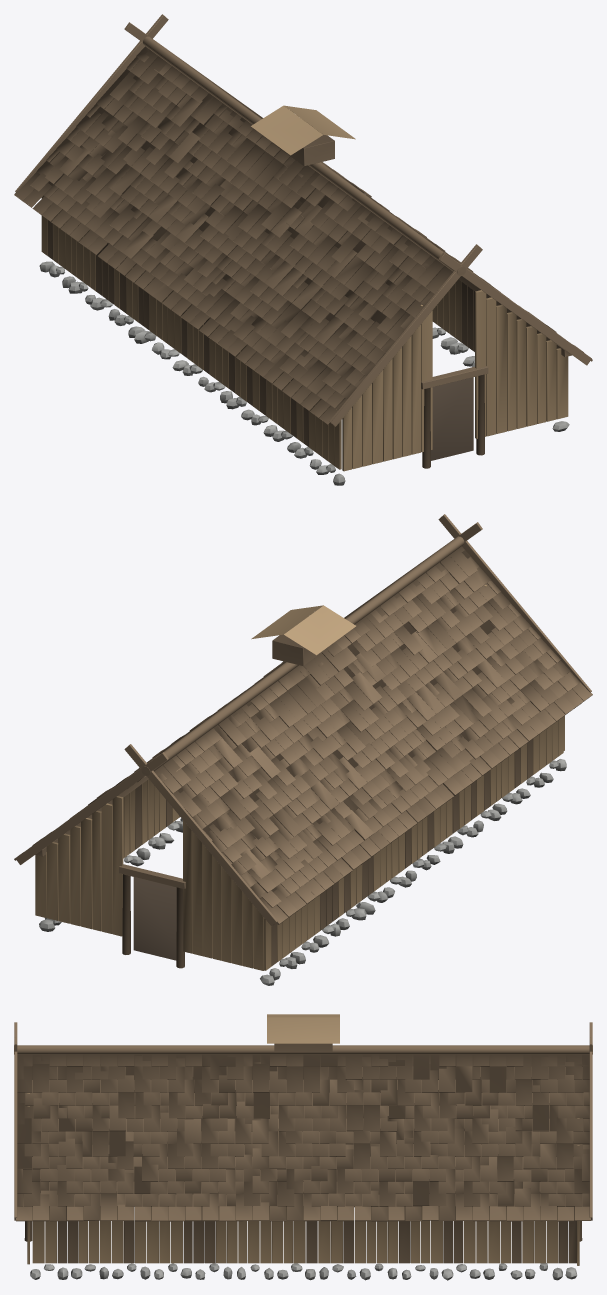
File: dh_longhouse.glb
3 views of the same model, one above another, from view 1: azimuth 30°, elevation 25°; view 2: azimuth 150°, elevation 25°; view 3: azimuth 270°, elevation 25° (orthographic). The views are drawn at different scales.
Parts seen in each view (by area): view 1: dh_longhouse; view 2: dh_longhouse; view 3: dh_longhouse.
Part boxes in pixels (box(x1,y1,x2,y2)): dh_longhouse: box(14, 14, 592, 485); dh_longhouse: box(14, 514, 592, 985); dh_longhouse: box(14, 1014, 592, 1280).
Bounding box in the file's own units: 7.68 × 6.35 × 15.8.
